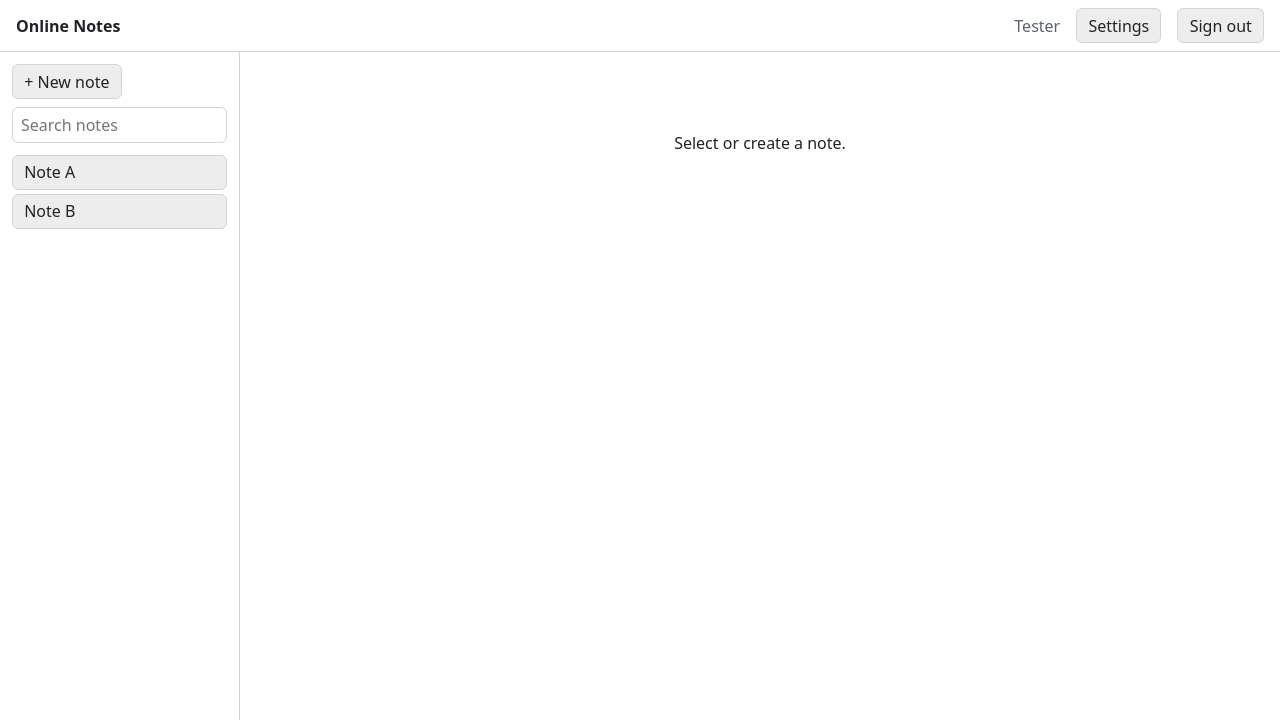
Test: revision-aware deletion — what the user sees › an unconfirmed outcome stays unknown while the note is still listed
Click the button "Note A": (120, 172) [12,155,227,190]
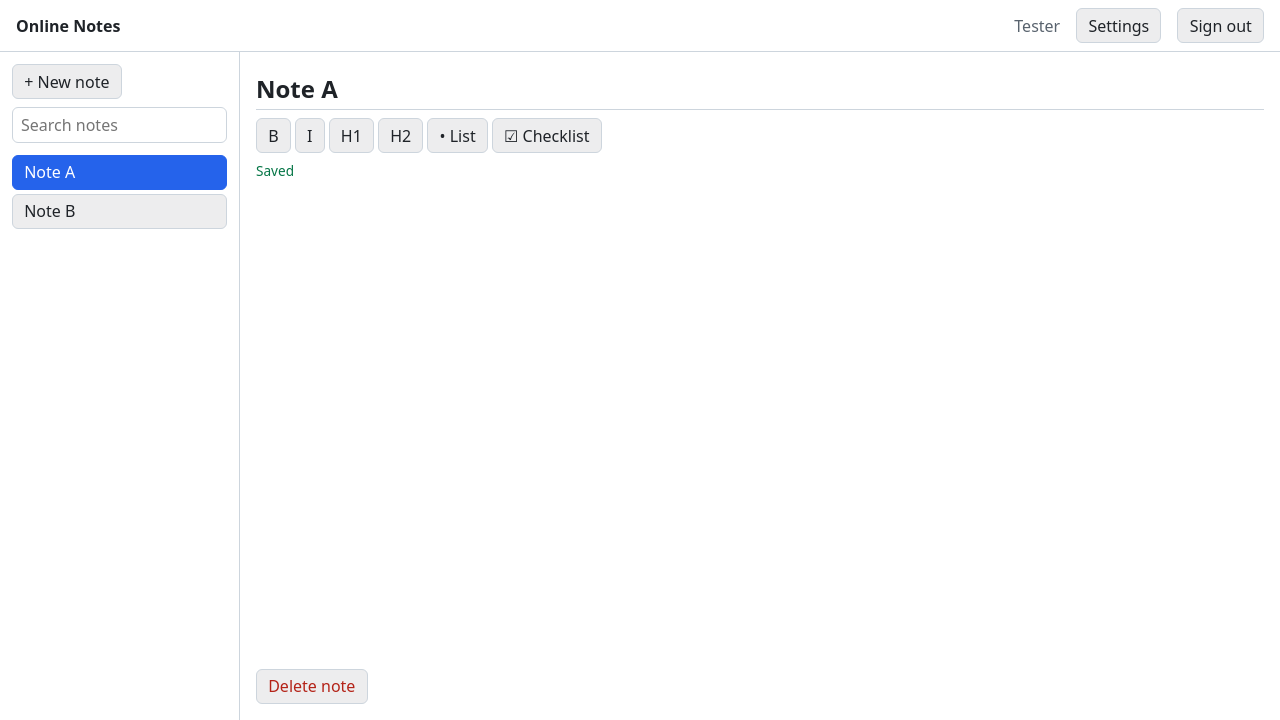
Click the button "Delete note": (312, 686) [256,669,368,704]
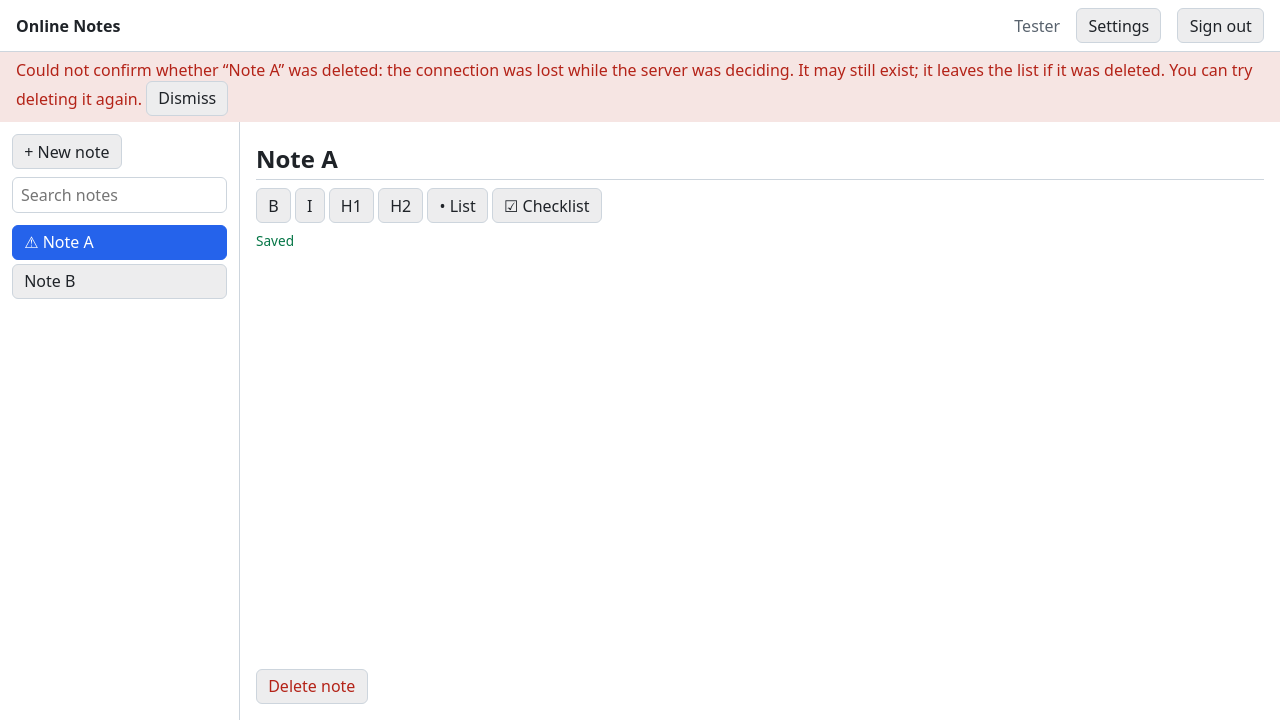
Now the message with class "banner" shows "Could not confirm", box [16,59,1252,109]
